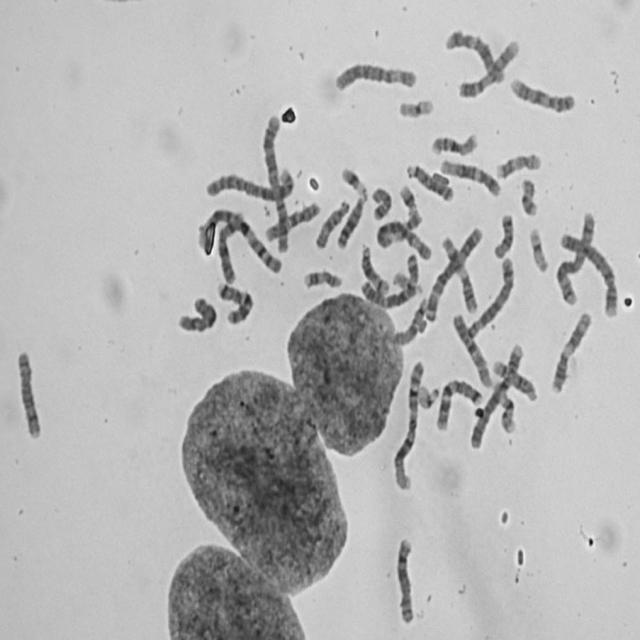A1: (198, 204, 285, 276), (390, 357, 426, 492)
A2: (259, 111, 291, 253), (204, 162, 298, 202)
A3: (424, 222, 485, 323), (358, 248, 419, 310)
B4: (467, 336, 525, 452), (556, 226, 620, 319)
B5: (463, 253, 516, 341), (552, 207, 596, 307)
C10: (449, 309, 495, 390), (261, 197, 322, 243)
C11: (548, 308, 594, 396), (438, 232, 479, 315)
C12: (442, 25, 508, 85), (438, 155, 503, 198)
C6: (331, 57, 420, 93), (374, 215, 434, 262)
C7: (433, 374, 485, 432), (214, 276, 256, 327)
C8: (14, 345, 44, 442), (392, 532, 417, 627)
C9: (456, 34, 522, 100), (507, 72, 578, 115)
D13: (403, 160, 455, 204), (334, 190, 368, 252)
D14: (490, 355, 538, 404), (358, 241, 390, 297)
D15: (389, 292, 430, 347), (313, 195, 352, 251)
E16: (427, 128, 480, 158), (491, 378, 517, 435)
E17: (493, 148, 542, 181), (300, 266, 344, 292)
E18: (491, 209, 515, 260), (369, 183, 393, 222)
F19: (525, 223, 550, 274), (395, 93, 436, 120)
F20: (389, 210, 431, 242), (518, 174, 540, 218)
G21: (338, 162, 367, 196), (397, 181, 419, 214)
G22: (390, 267, 424, 296), (418, 383, 440, 411)
X: (215, 208, 246, 285), (174, 292, 219, 335)
